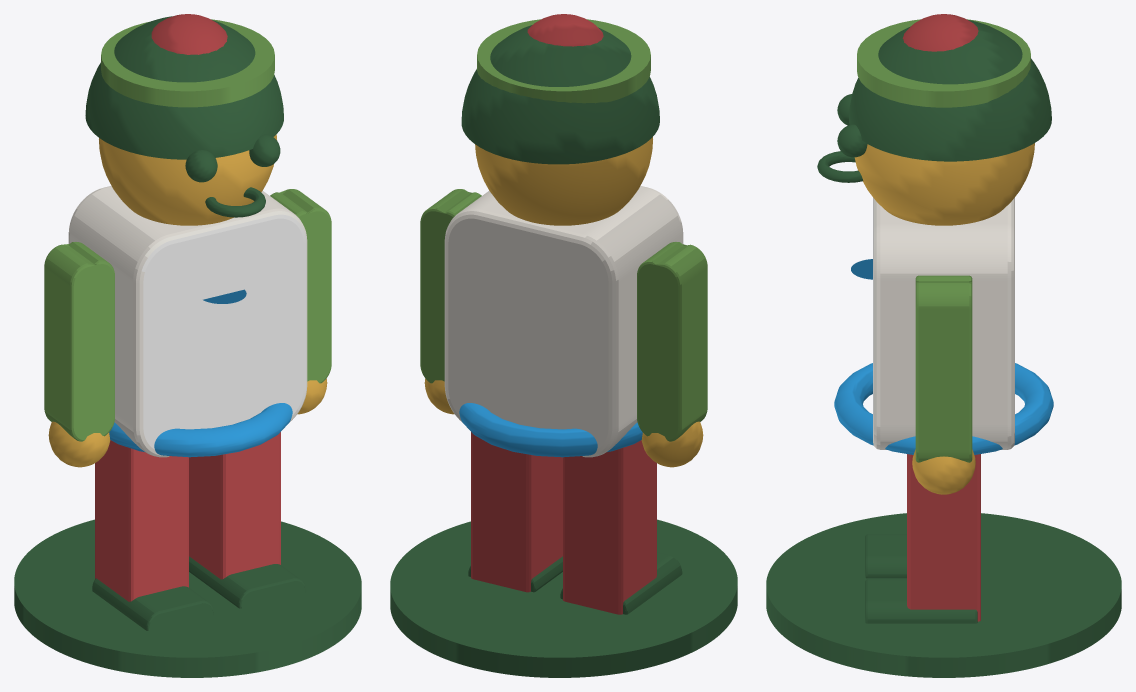
File: 1182_唐图鉴_白居易.glb
3 renders of one model, left to right at view 1: azimuth 30°, elevation 25°; view 2: azimuth 150°, elevation 25°; view 3: azimuth 270°, elevation 25°, orthographic.
Visible parts, largest first — view 1: card_1182; view 2: card_1182; view 3: card_1182.
Boxes of the visible parts, bbox=[...] form: card_1182: bbox=[14, 14, 361, 677]; card_1182: bbox=[390, 14, 737, 677]; card_1182: bbox=[766, 14, 1121, 677].
Size of the model in its own units: 0.5266 by 1 by 0.5412.
